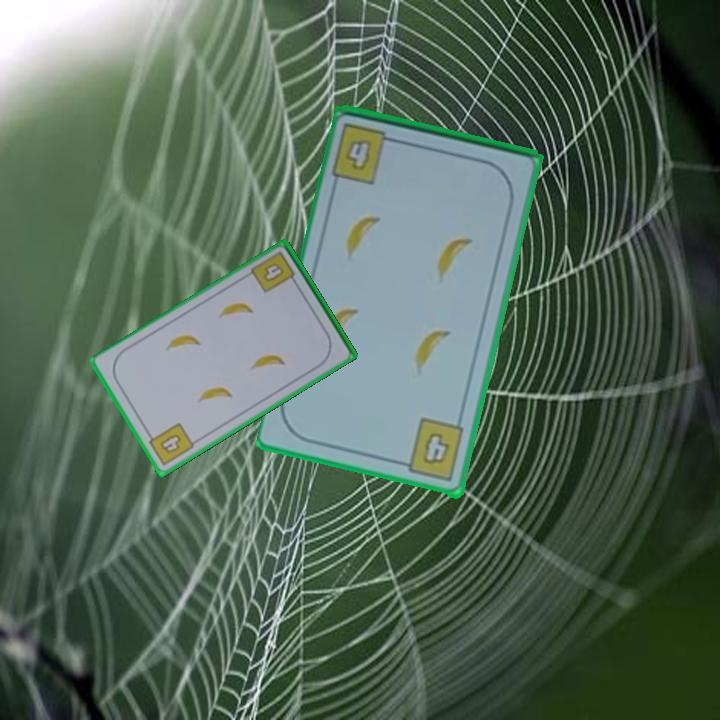4b: (329, 119, 403, 187), (395, 416, 467, 485), (143, 419, 197, 469), (247, 248, 300, 296)
